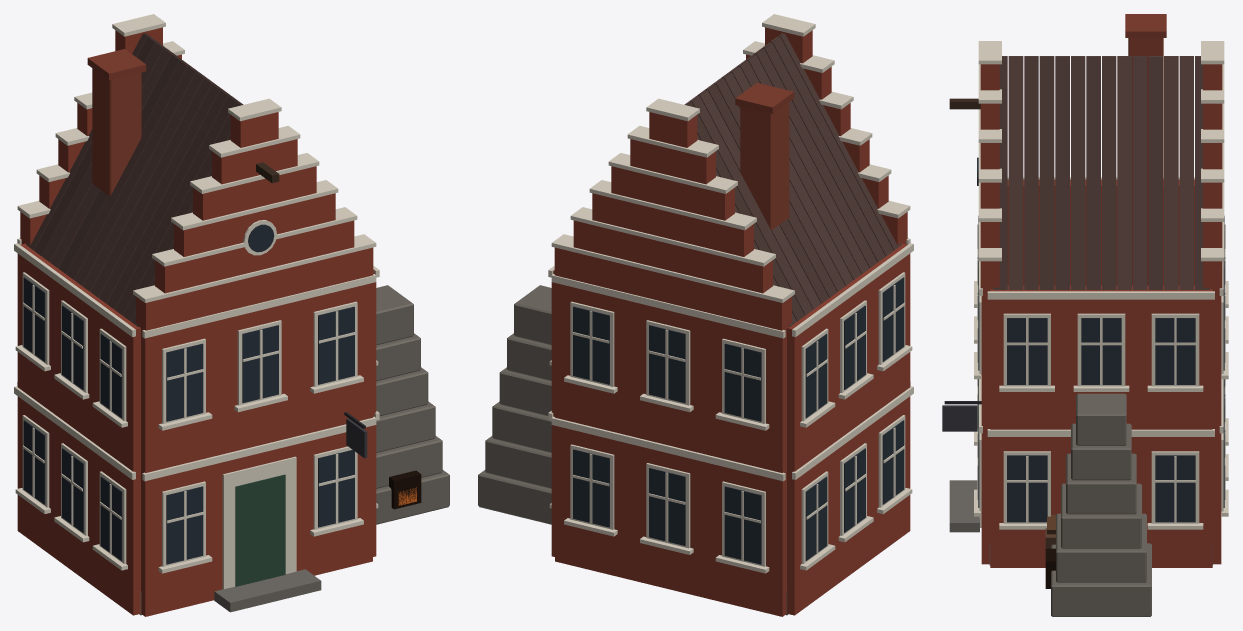
The model's file is smelter_3.glb.
The picture shows the model from 3 angles, left to right: view 1: azimuth 30°, elevation 25°; view 2: azimuth 150°, elevation 25°; view 3: azimuth 270°, elevation 25°; orthographic projection. The views are drawn at different scales.
Visible parts, largest first — view 1: smelter3_brick, smelter3_stone, smelter3_tiles, smelter3_glass, smelter3_wood, smelter3_soot; view 2: smelter3_brick, smelter3_stone, smelter3_tiles, smelter3_glass, smelter3_wood; view 3: smelter3_tiles, smelter3_brick, smelter3_stone, smelter3_glass, smelter3_wood.
Boxes of the visible parts, x1,y1,x2,y2 form: smelter3_brick: [17, 27, 376, 616]; smelter3_stone: [14, 14, 449, 615]; smelter3_tiles: [26, 33, 243, 326]; smelter3_glass: [23, 224, 416, 564]; smelter3_wood: [22, 162, 367, 586]; smelter3_soot: [389, 470, 421, 509]; smelter3_brick: [551, 27, 910, 616]; smelter3_stone: [478, 14, 913, 615]; smelter3_tiles: [684, 33, 901, 326]; smelter3_glass: [573, 277, 904, 564]; smelter3_wood: [570, 272, 905, 566]; smelter3_tiles: [993, 56, 1209, 289]; smelter3_brick: [980, 14, 1222, 567]; smelter3_stone: [949, 41, 1228, 616]; smelter3_glass: [977, 157, 1224, 522]; smelter3_wood: [942, 98, 1225, 548].
Bounding box in the file's own units: 7.82 × 10.1 × 5.67.
